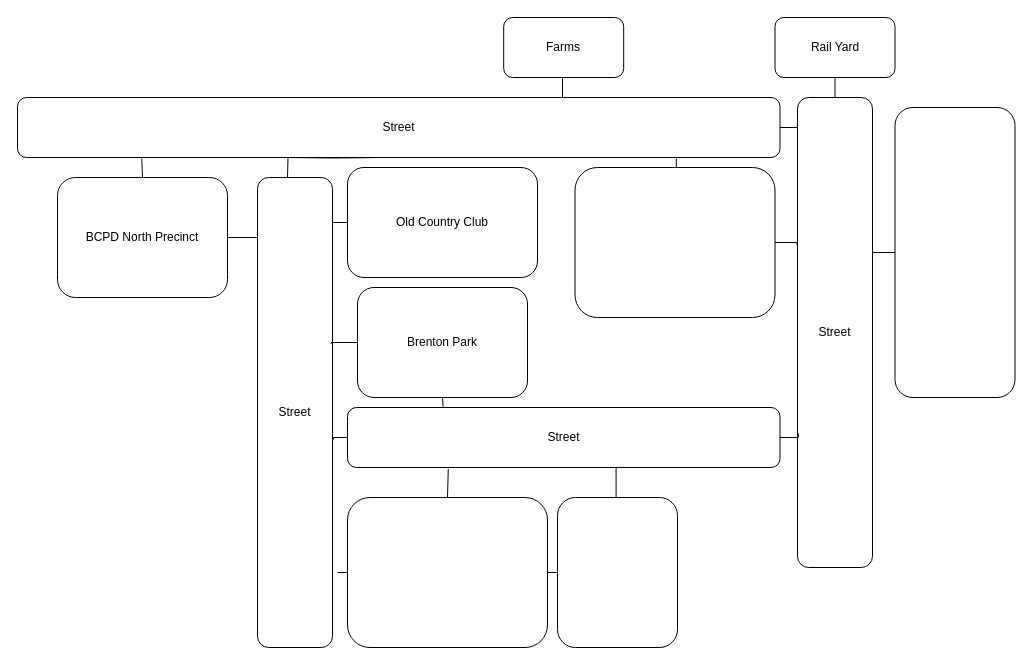
This 1033x665 diagram has some shape labels left out. The shapes that lost their labels are listed below. From the top down, each one's centre as x and y in pixels, then its label:
point 674,242: Bay City Medical Center
point 954,252: Industrial Plant
point 447,572: Talladega Mall
point 617,572: Talladega Parking Garage
